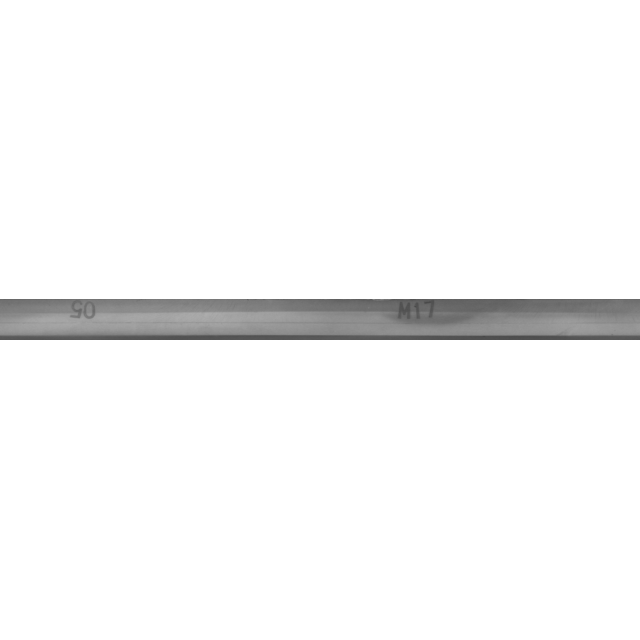mohao: (316, 270, 516, 370)
xuehao: (0, 270, 180, 370)
